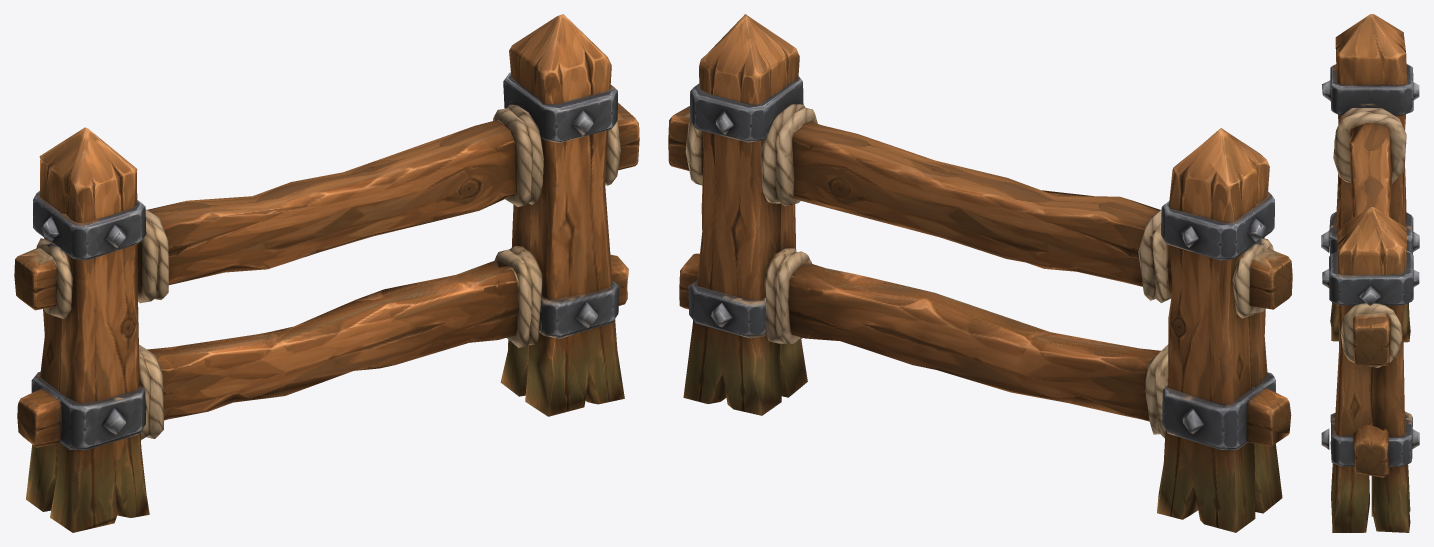
The model's file is fence.glb.
3 views of the same model, side by side, from view 1: azimuth 30°, elevation 25°; view 2: azimuth 150°, elevation 25°; view 3: azimuth 270°, elevation 25° (orthographic). The views are drawn at different scales.
Bounding box in the file's own units: 0.9575 × 0.5718 × 0.1636.
1 material, 1 textured.
